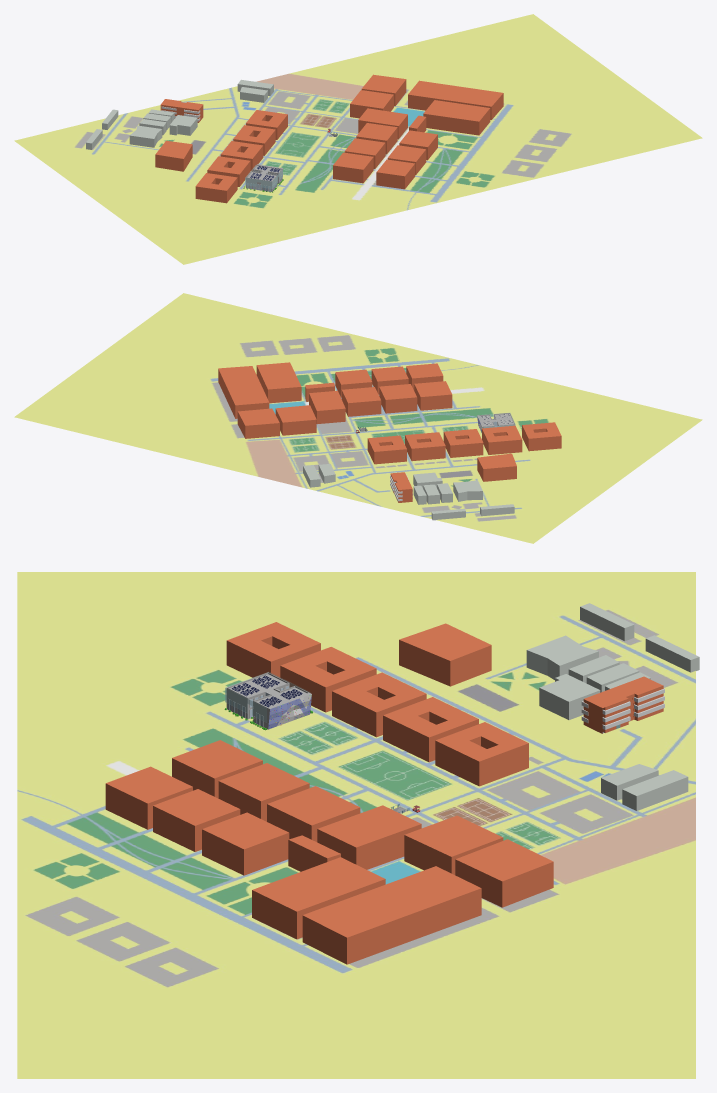
The model's file is um6pParkingGolfcar.glb.
3 renders of one model, top to bottom at view 1: azimuth 30°, elevation 25°; view 2: azimuth 150°, elevation 25°; view 3: azimuth 270°, elevation 25°, orthographic. The views are drawn at different scales.
Parts seen in each view (by area): view 1: Terrain.001, rest, dio, 1337; view 2: Terrain.001, rest, 1337, dio; view 3: Terrain.001, rest, dio, 1337.
Part boxes in pixels (box(x1,y1,x2,y2)): Terrain.001: box(14, 14, 702, 264); rest: box(86, 74, 503, 203); dio: box(243, 164, 283, 192); 1337: box(160, 99, 203, 122); Terrain.001: box(14, 293, 702, 543); rest: box(218, 362, 561, 520); 1337: box(390, 472, 412, 502); dio: box(477, 412, 515, 433); Terrain.001: box(17, 572, 695, 1078); rest: box(105, 603, 699, 964); dio: box(224, 672, 312, 730); 1337: box(581, 676, 664, 733).
Bounding box in the file's own units: 1013 × 35.28 × 576.
Materials: 66 (3 with a texture image).
